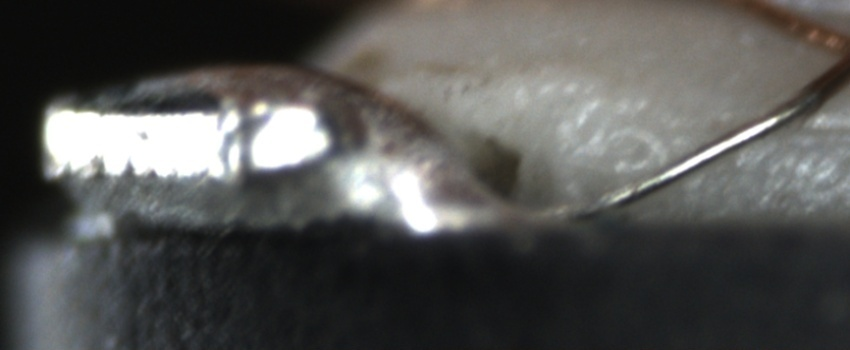DL: (801, 97, 849, 153)
TS: (530, 95, 816, 220)
